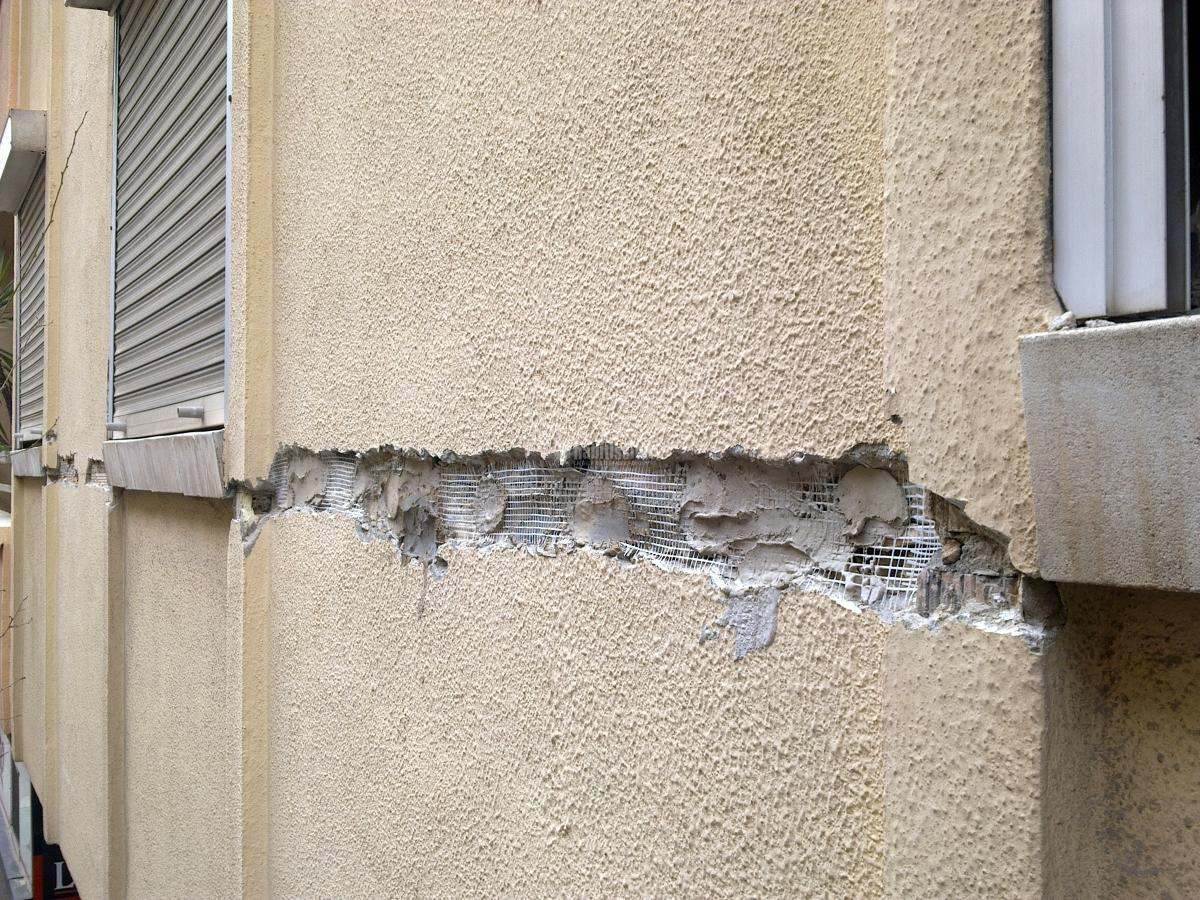spalling: (42, 430, 1067, 644)
